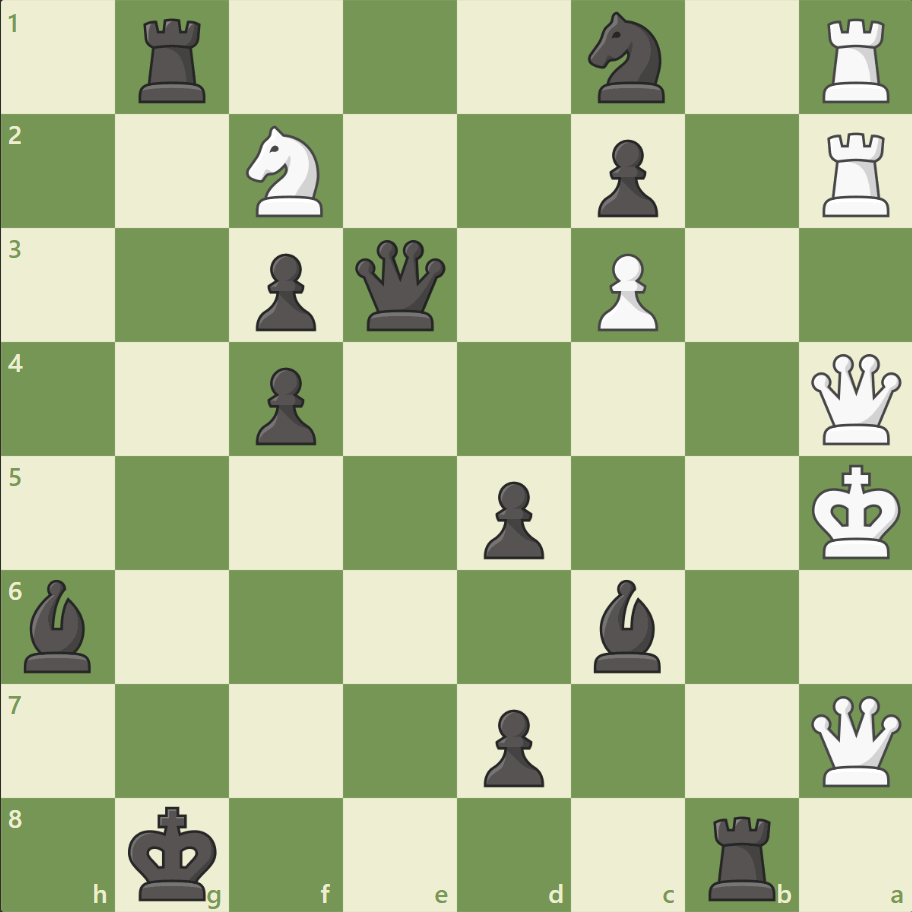K: (806, 458, 906, 566)
N: (238, 121, 335, 223)
P: (588, 246, 662, 337)
Q: (805, 349, 904, 449), (805, 690, 904, 789)
R: (814, 125, 897, 222), (814, 12, 897, 109)
b: (585, 574, 669, 676), (17, 574, 101, 676)
k: (124, 798, 224, 906)
n: (579, 7, 676, 110)
p: (474, 700, 549, 791), (474, 473, 549, 564), (247, 359, 322, 450), (247, 246, 322, 337), (588, 132, 662, 223)
q: (351, 236, 450, 335)
r: (700, 806, 783, 904), (133, 12, 215, 109)
